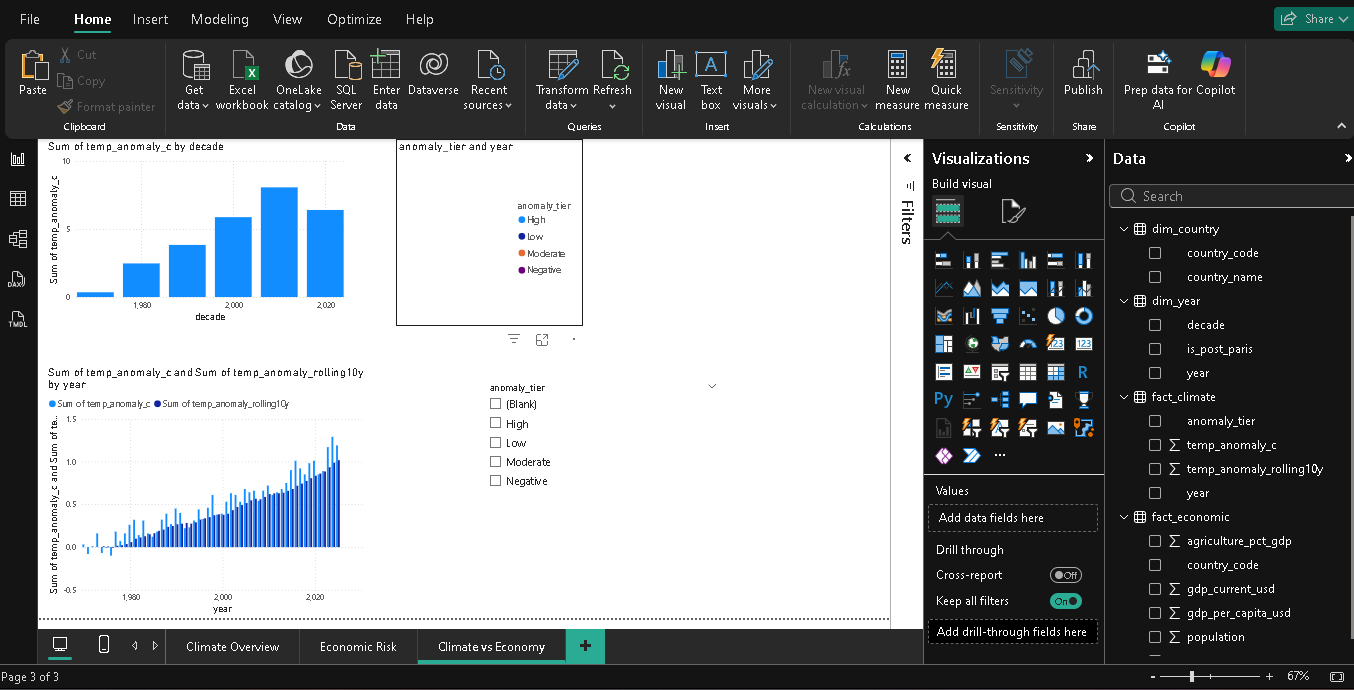

What the dashboard file says about the page in this screenshot:
{"tool":"powerbi","page":{"name":"Climate vs Economy","canvas":[1280,720],"ordinal":2},"visuals":[{"type":"clusteredColumnChart","fields":{"Category":["dim_year.decade"],"Y":["Sum(fact_climate.temp_anomaly_c)"]},"box":[10.5,0,453.7,279.4],"z":0},{"type":"pieChart","fields":{"Category":["fact_climate.anomaly_tier"],"Series":["fact_climate.year"]},"box":[537.8,0,280.9,280.9],"z":1000},{"type":"lineClusteredColumnComboChart","fields":{"Category":["fact_climate.year"],"Y":["Sum(fact_climate.temp_anomaly_c)","Sum(fact_climate.temp_anomaly_rolling10y)"]},"box":[10.5,339.5,495.8,380.1],"z":2000},{"type":"slicer","fields":{"Values":["fact_climate.anomaly_tier"]},"box":[665.5,360.6,366.6,211.8],"z":3000}]}

Visuals, with their boxes on the page's 1280x720 design canvas (x1, y1, x2, y2). These are canvas units, not pixel positions in the 1354x690 screenshot, which may show the page scaled, cropped or inside an application window:
clusteredColumnChart - dim_year.decade x Sum(fact_climate.temp_anomaly_c): Rect(10, 0, 464, 279)
pieChart - fact_climate.anomaly_tier x fact_climate.year: Rect(538, 0, 819, 281)
lineClusteredColumnComboChart - fact_climate.year x Sum(fact_climate.temp_anomaly_c): Rect(10, 340, 506, 720)
slicer - fact_climate.anomaly_tier: Rect(666, 361, 1032, 572)
